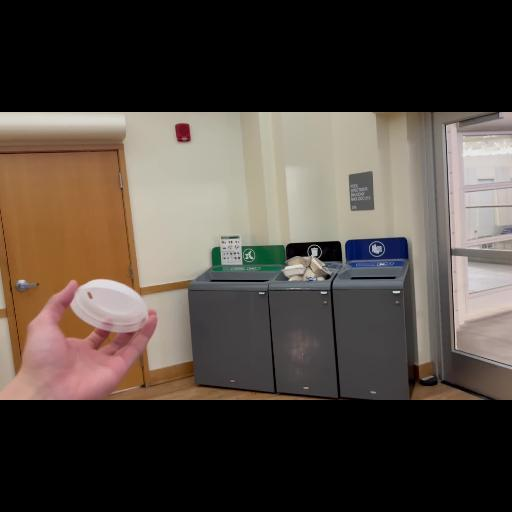lp_cup_lids: (69, 279, 149, 333)
